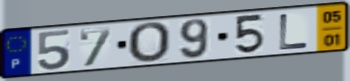5: (36, 28, 73, 72), (233, 12, 267, 56)
7: (78, 26, 114, 68)
9: (177, 17, 213, 60)
L: (278, 12, 312, 51)
O: (125, 20, 173, 65)
